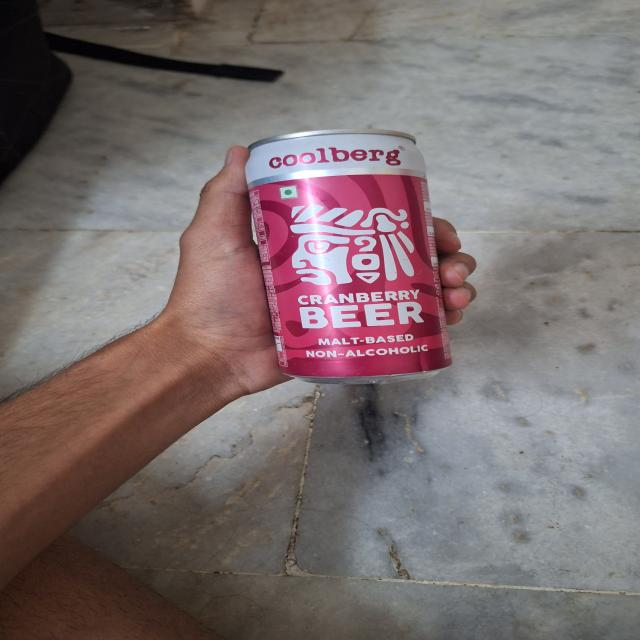Coolberg: (234, 119, 483, 395)
